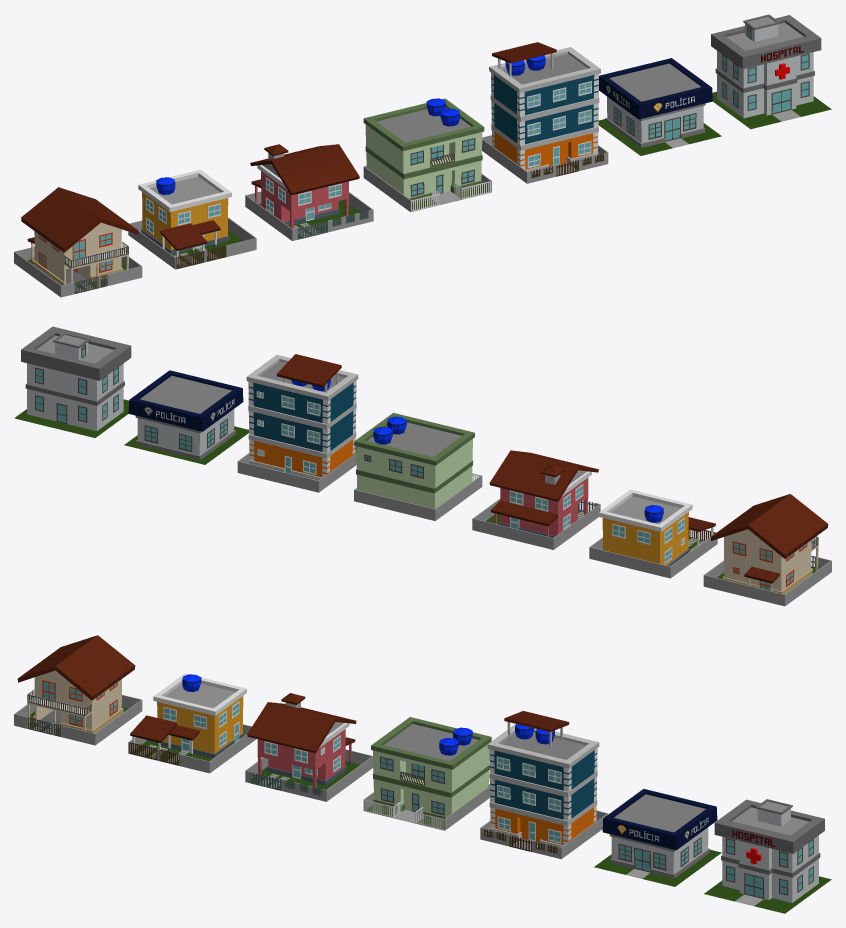
The model's file is Todos.FBX.
3 views of the same model, one above another, from view 1: azimuth 30°, elevation 25°; view 2: azimuth 150°, elevation 25°; view 3: azimuth 330°, elevation 25° (orthographic).
Parts seen in each view (by area): view 1: predio 02, predio 01, hospital, casa 01, policia, casa 03, casa 02, casa 01 muro, casa 03 muro, casa 02 muro, predio 02 muro, hospital grama (+8 smaller); view 2: predio 02, predio 01, hospital, casa 01, policia, casa 03, casa 02, casa 01 muro, casa 03 muro, casa 02 muro, predio 01 muro, predio 02 muro (+2 smaller); view 3: predio 02, predio 01, hospital, casa 01, policia, casa 02, casa 03, casa 01 muro, casa 03 muro, predio 02 muro, casa 02 muro, hospital grama (+7 smaller).
Part boxes in pixels (x1,y1,x2,y2): predio 02: (489,42,600,174); predio 01: (363,98,484,203); hospital: (711,14,821,118); casa 01: (21,187,138,286); policia: (599,58,712,147); casa 03: (250,144,359,228); casa 02: (138,169,231,267); casa 01 muro: (14,246,142,297); casa 03 muro: (245,191,373,240); casa 02 muro: (128,217,256,269); predio 02 muro: (482,135,608,183); hospital grama: (712,91,831,129); predio 02: (246,354,358,480); predio 01: (354,413,474,508); hospital: (21,326,131,431); casa 01: (710,494,828,594); policia: (128,370,243,460); casa 03: (489,450,598,537); casa 02: (599,489,715,566); casa 01 muro: (703,557,831,606); casa 03 muro: (472,498,600,549); casa 02 muro: (589,533,717,578); predio 01 muro: (354,475,482,520); predio 02 muro: (237,452,356,492); predio 02: (487,711,599,849); predio 01: (371,717,491,822); hospital: (714,799,824,902); casa 01: (17,635,135,733); policia: (602,789,717,878); casa 02: (130,673,246,759); casa 03: (247,693,356,792); casa 01 muro: (14,695,142,745); casa 03 muro: (245,749,373,801); predio 02 muro: (480,810,608,859); casa 02 muro: (128,724,256,773); hospital grama: (704,876,831,913).
Bounding box in the file's own units: 373 × 49.57 × 39.45.
